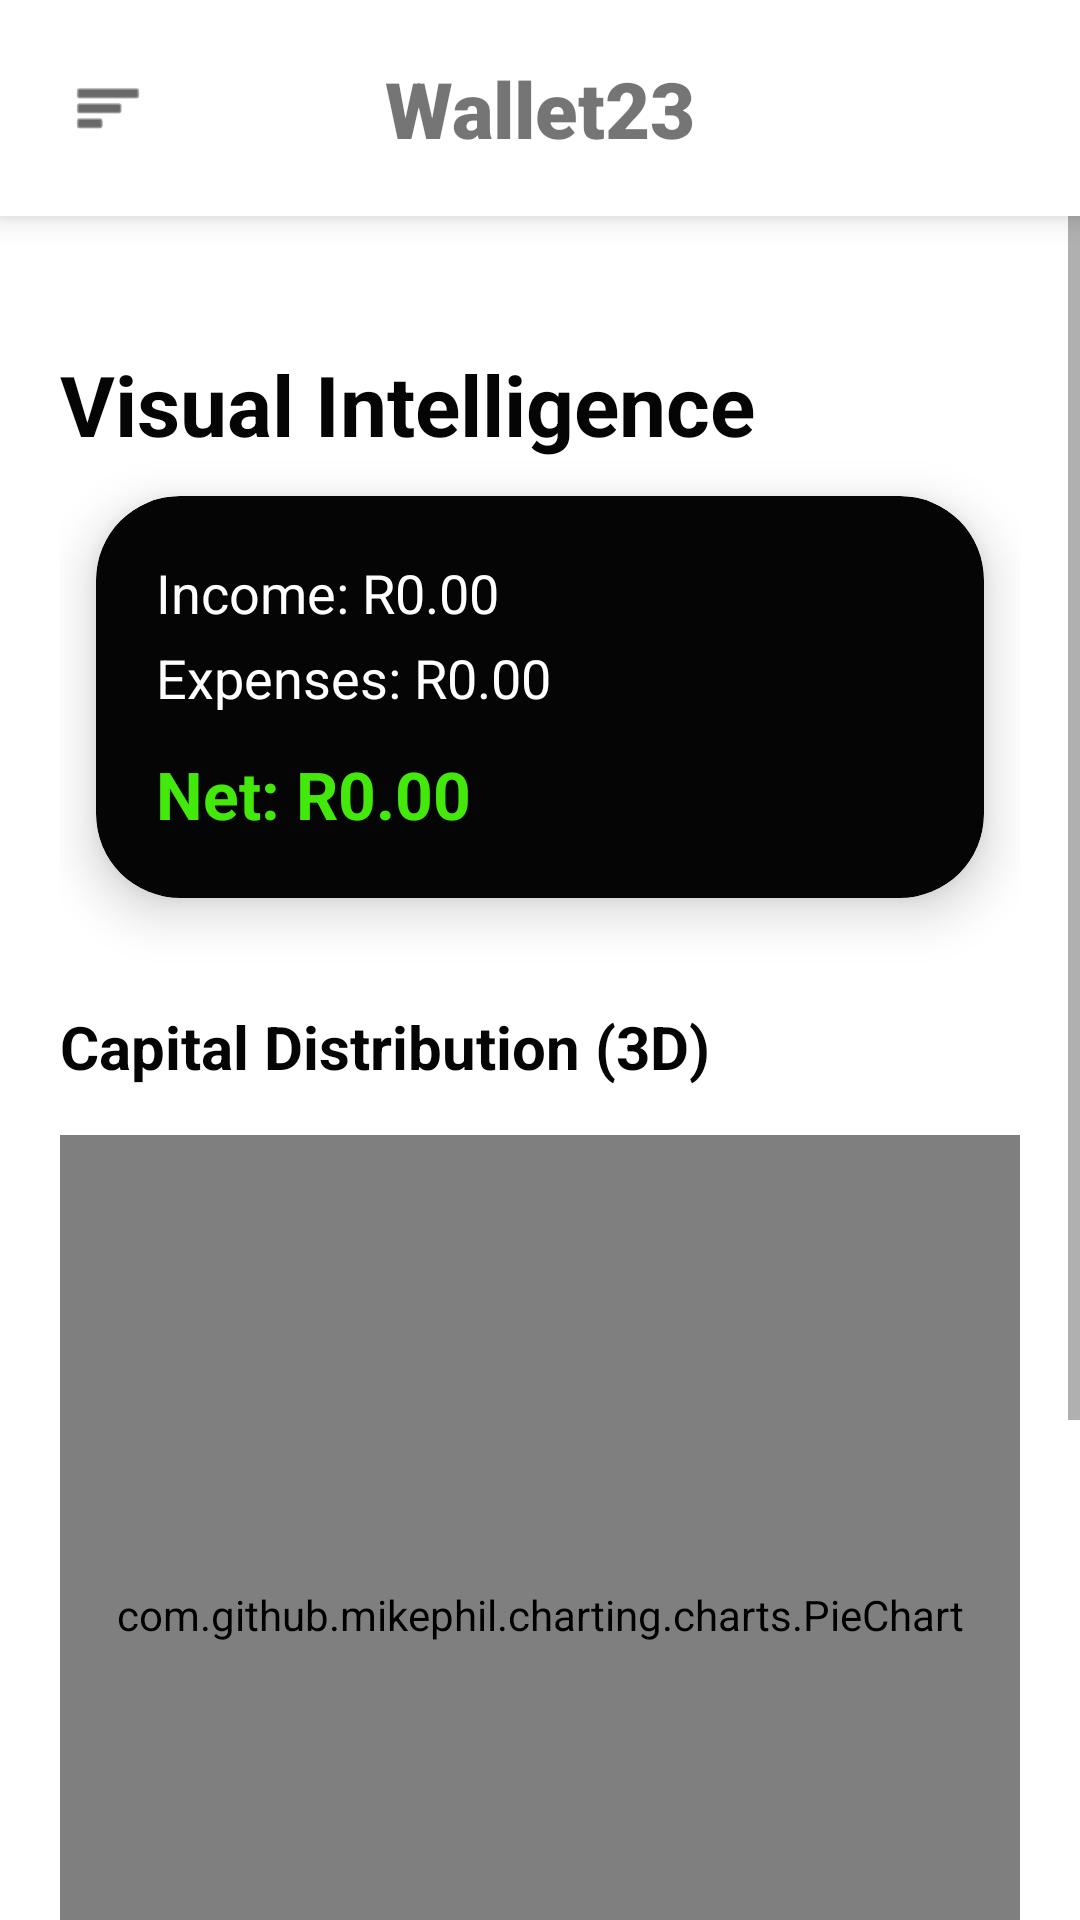

Screen size 1080×1920. Icon name, then its center in pixels as (x=x, y=y):
sort by size: (x=108, y=108)
